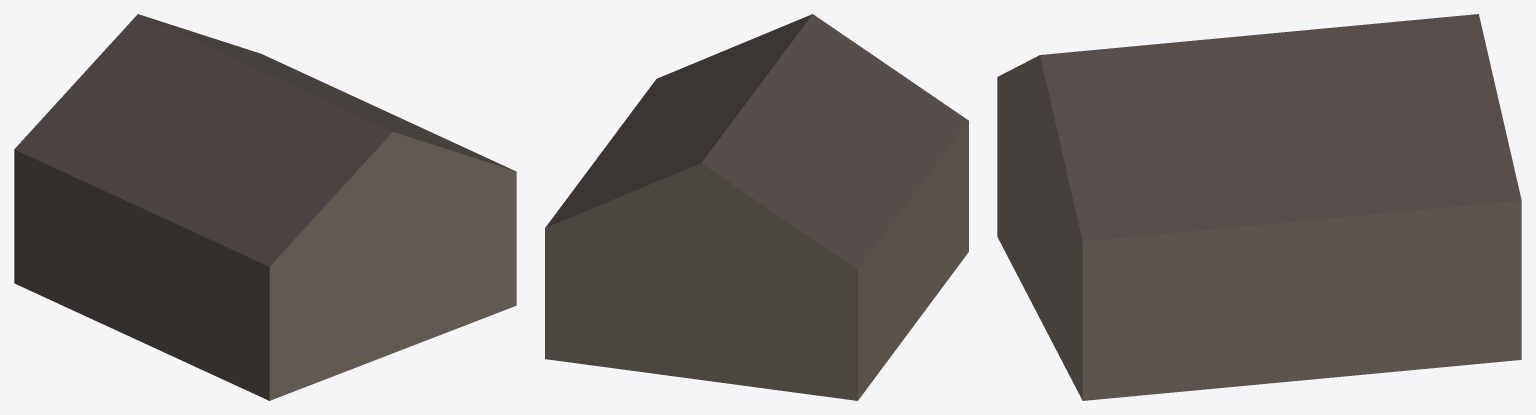
3 views of the same model, side by side, from view 1: azimuth 30°, elevation 25°; view 2: azimuth 150°, elevation 25°; view 3: azimuth 270°, elevation 25° (orthographic). The views are drawn at different scales.
Parts seen in each view (by area): view 1: HP-w1217015640; view 2: HP-w1217015640; view 3: HP-w1217015640.
Part boxes in pixels (x1,y1,x2,y2): HP-w1217015640: [14, 14, 516, 400]; HP-w1217015640: [545, 14, 968, 400]; HP-w1217015640: [997, 14, 1521, 400].
Bounding box in the file's own units: 16.6 × 9.93 × 17.89.
